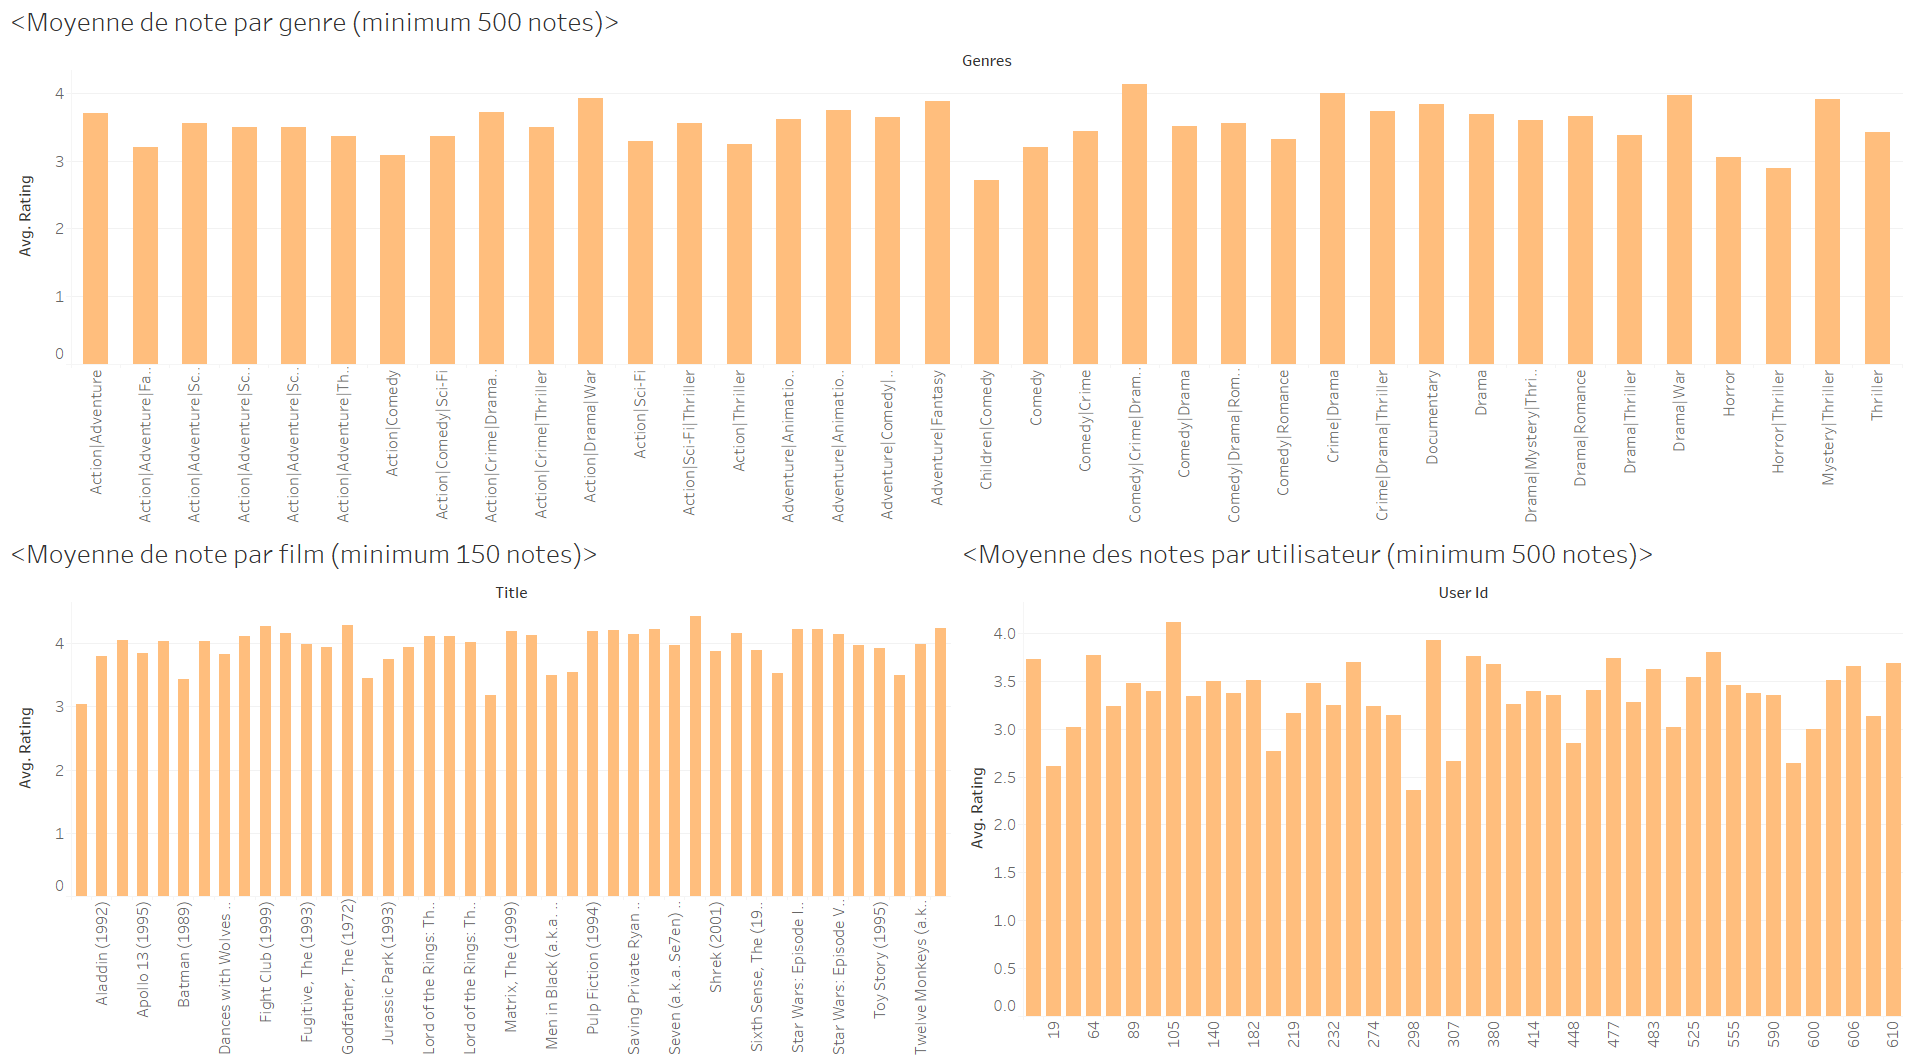

This screenshot's page, from the dashboard's own definition file:
{"tool":"tableau","page":{"name":"Dashboard 1","canvas":[650,860],"ordinal":0},"visuals":[{"type":"worksheet","title":"Sheet 1","mark":"Automatic","rows":["rating"],"cols":["genres"],"box":[8,8,634,422]},{"type":"worksheet","title":"Sheet 3","mark":"Automatic","rows":["rating"],"cols":["userId"],"box":[8,430,634,211]},{"type":"worksheet","title":"Sheet 2","mark":"Automatic","rows":["rating"],"cols":["title"],"box":[8,641,634,211]}]}

Visuals, with their boxes on the page's 650x860 design canvas (x1, y1, x2, y2). These are canvas units, not pixel positions in the 1911x1063 screenshot, which may show the page scaled, cropped or inside an application window:
"Sheet 1" worksheet: box(8, 8, 642, 430)
"Sheet 3" worksheet: box(8, 430, 642, 641)
"Sheet 2" worksheet: box(8, 641, 642, 852)
